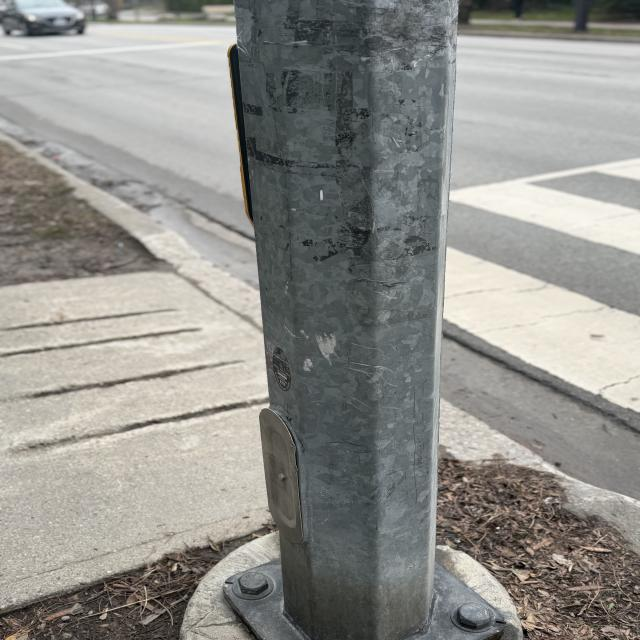Electrical Pole: (220, 4, 508, 640)
